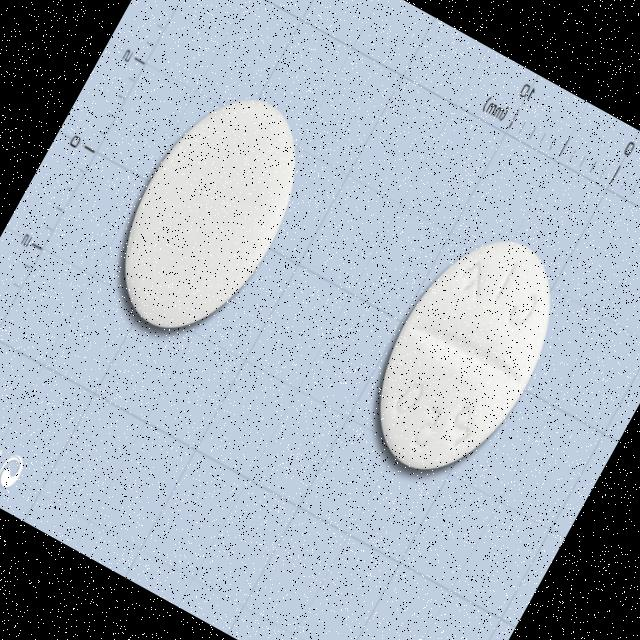Sinil Ciprofloxacin HCl Tab: (343, 210, 589, 500), (88, 68, 333, 357)
